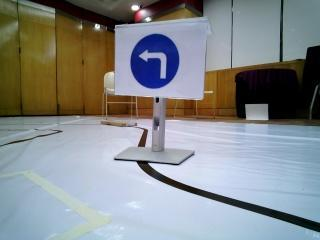left: (118, 26, 201, 87)
